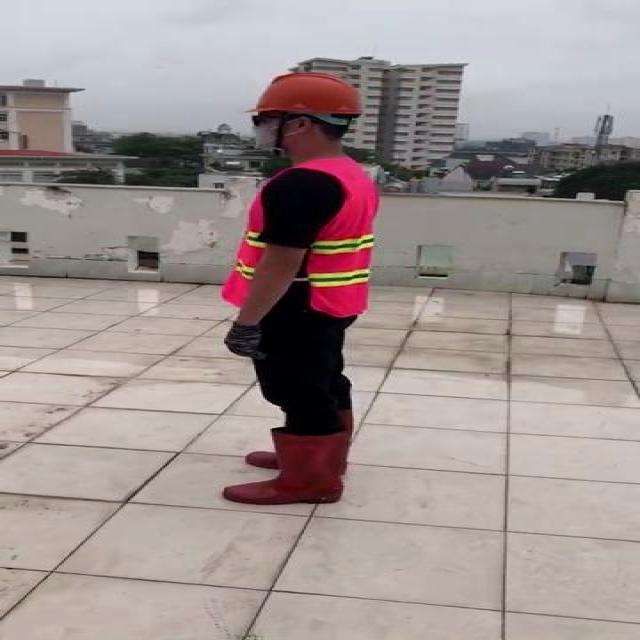boots: (221, 426, 353, 504)
hand_glove: (222, 321, 267, 364)
head_helmet: (256, 70, 364, 114)
person: (206, 64, 393, 517)
vest: (222, 156, 380, 316)
